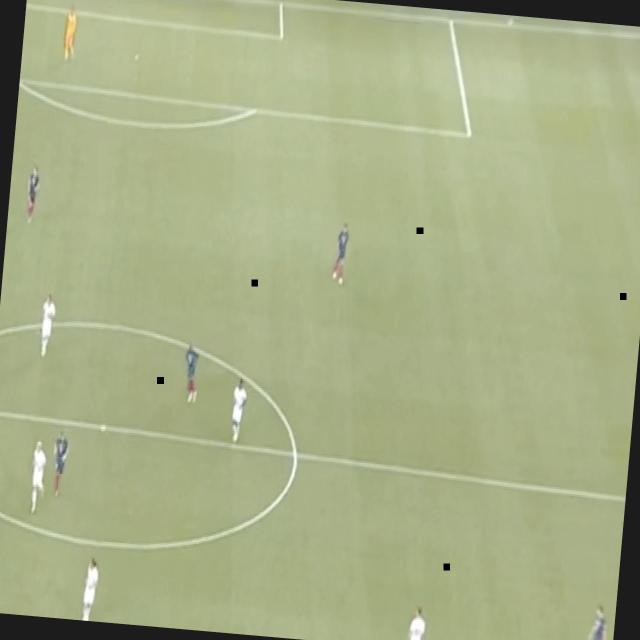player-white: (46, 424, 74, 504), (25, 438, 51, 516), (177, 334, 205, 402), (34, 289, 59, 363), (226, 375, 250, 449), (19, 163, 43, 227), (80, 553, 102, 621), (60, 0, 80, 66), (332, 221, 352, 285), (403, 599, 432, 640), (588, 603, 612, 640)
